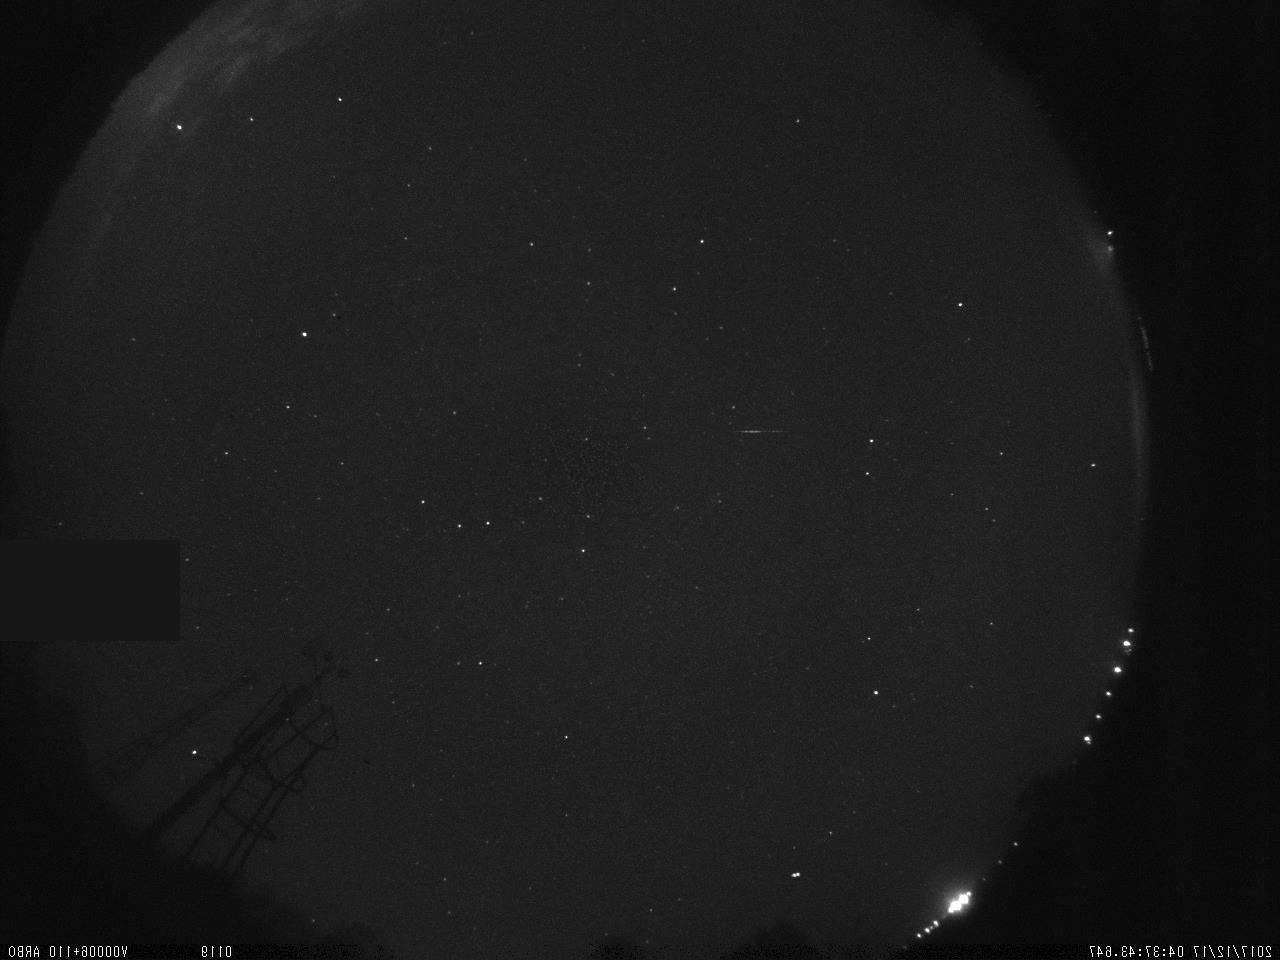meteor: (707, 416, 794, 449)
